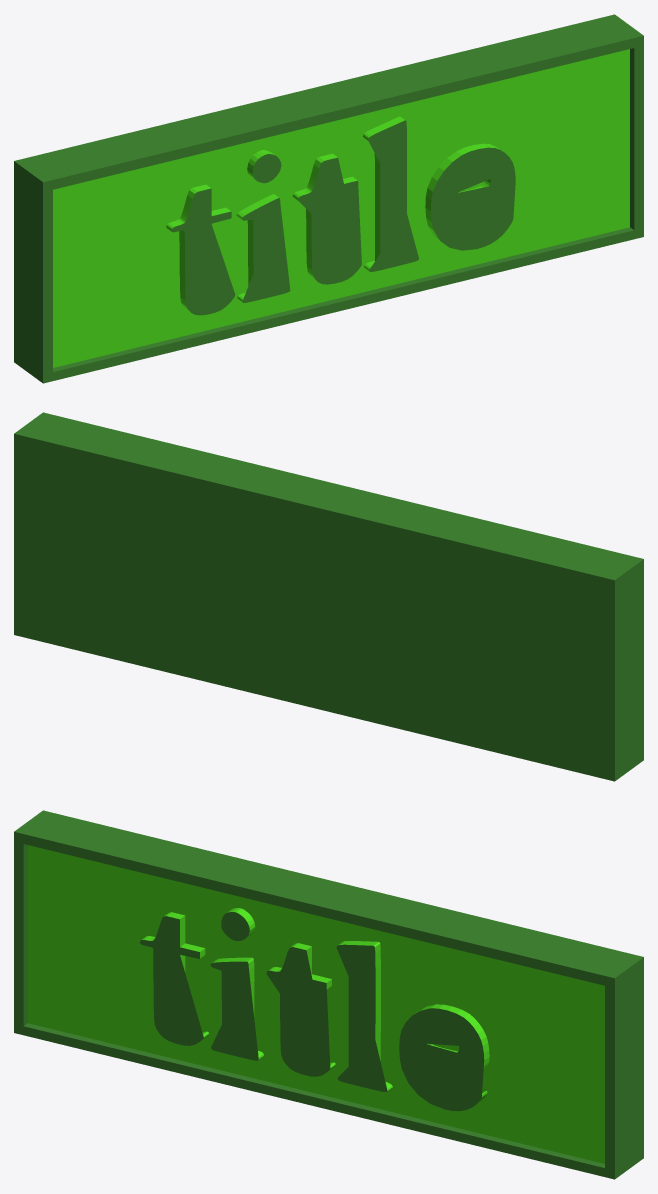
File: TitleButton.fbx
3 views of the same model, one above another, from view 1: azimuth 30°, elevation 25°; view 2: azimuth 150°, elevation 25°; view 3: azimuth 330°, elevation 25° (orthographic).
Visible parts, largest first — view 1: 立方体.001; view 2: 立方体.001; view 3: 立方体.001.
Part boxes in pixels (<box>): 立方体.001: <box>14,14,643,383</box>; 立方体.001: <box>14,412,643,781</box>; 立方体.001: <box>14,810,643,1179</box>.
Size of the model in its own units: 580 by 186 by 50.74.
